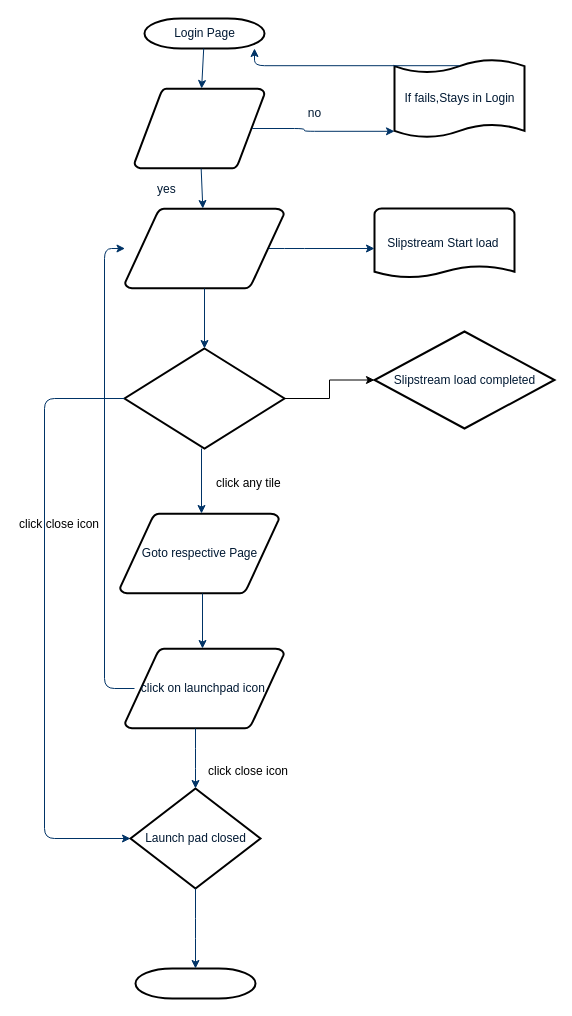
This 572x1016 diagram has some shape labels left out. The centre of each missing label's shape, as x and y in pixels:
"Authentication" belongs at point (199, 128).
"end" belongs at point (195, 983).
"Launchpad" belongs at point (204, 398).
"LaunhPad Shown" belongs at point (204, 248).
